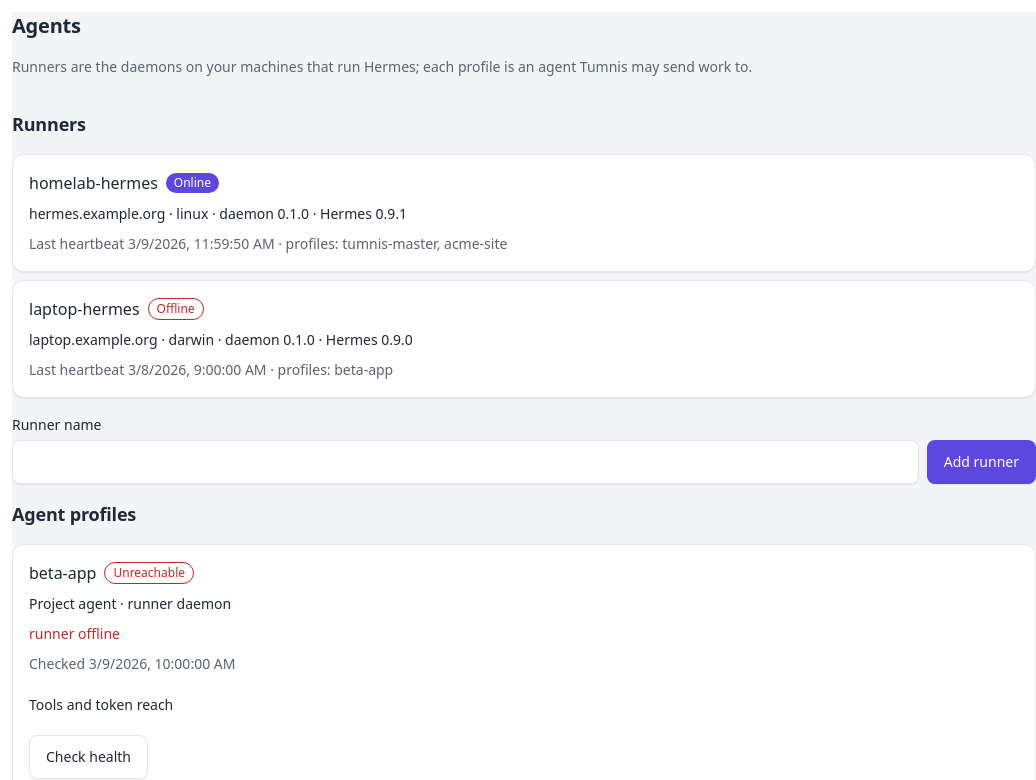
Test: [P1-04][FR-5.9] a health check refreshes the profile list
Expected: the text "Unreachable" is shown, x1=104 y1=562 x2=194 y2=584
Click the button "Check health". click: (88, 757)
box: x1=29 y1=735 x2=148 y2=779
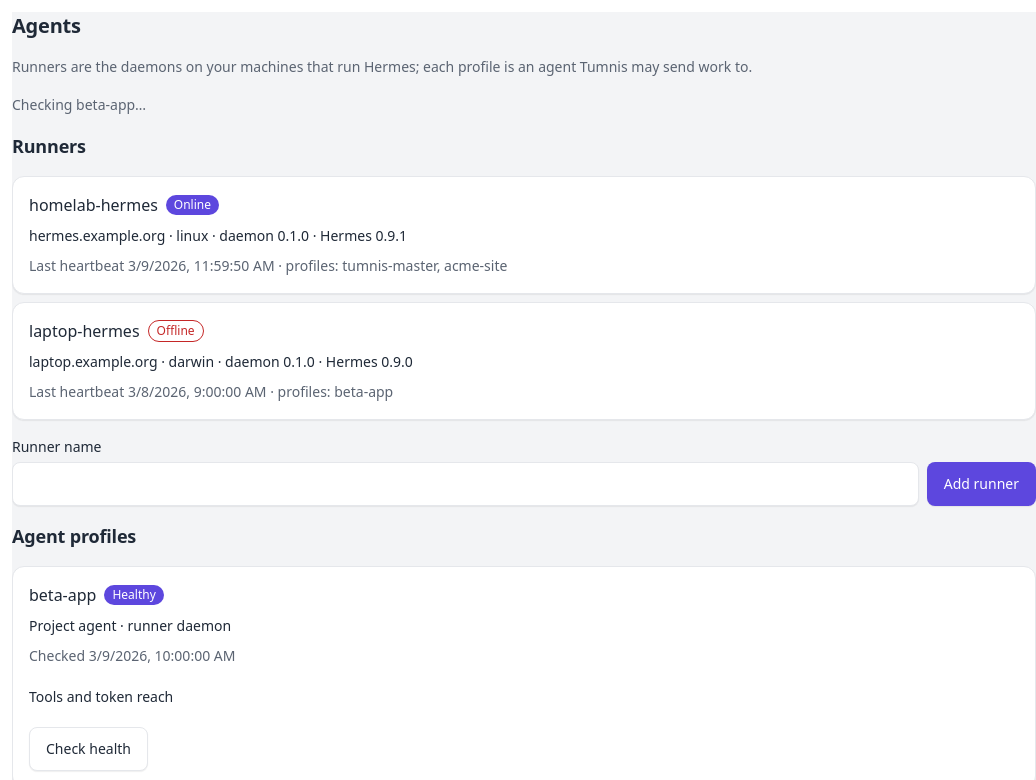
Result: the text "Healthy" is shown at x1=104 y1=585 x2=164 y2=605
